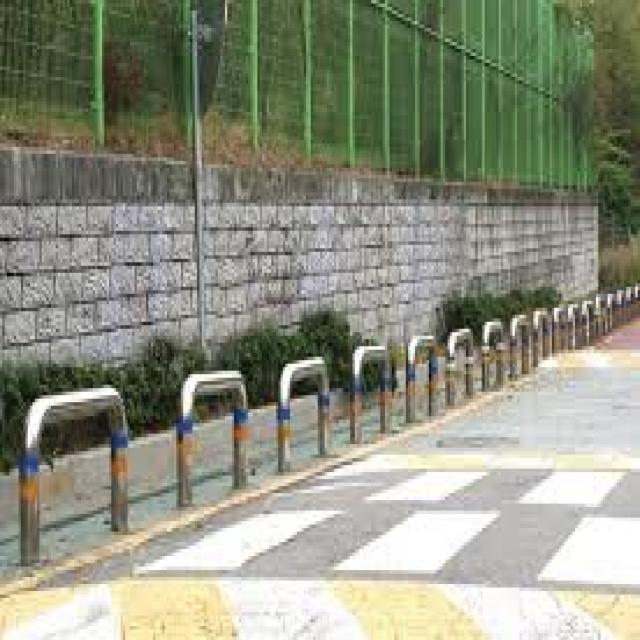bollard: (16, 382, 130, 562), (176, 368, 253, 501), (276, 358, 331, 478), (350, 342, 393, 443), (404, 333, 439, 420), (446, 325, 476, 409), (507, 311, 532, 390), (483, 318, 505, 398), (532, 298, 552, 367), (552, 286, 566, 362), (594, 294, 616, 338), (565, 302, 583, 350), (582, 297, 599, 344)
